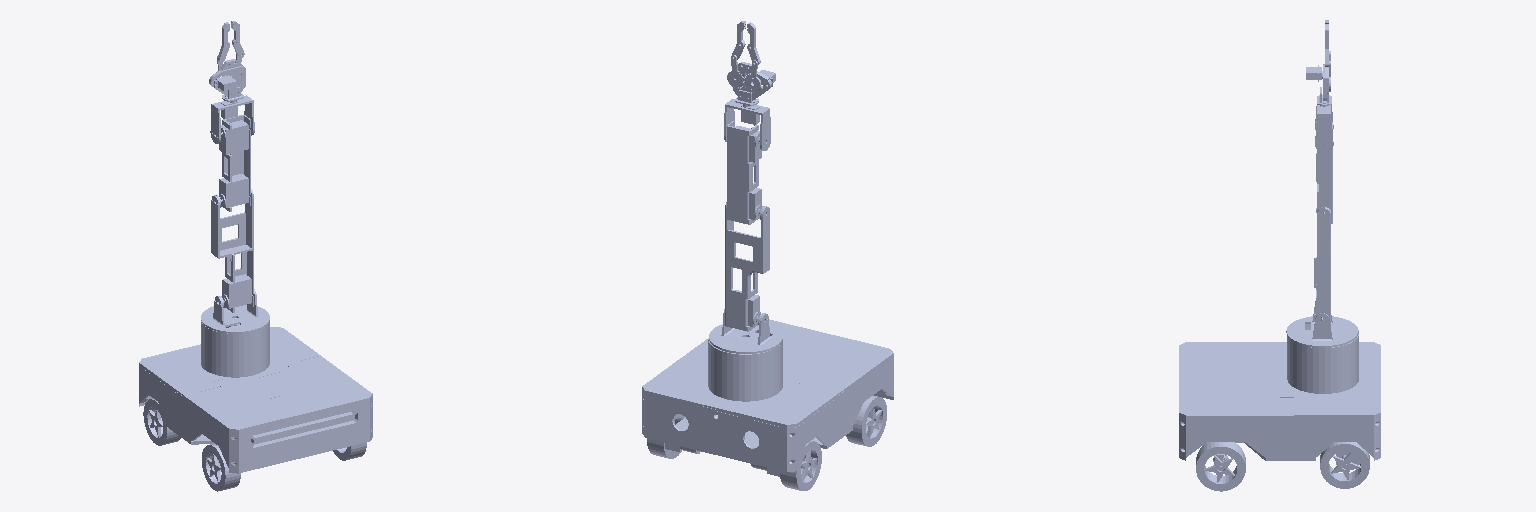
URDF robot description (urdf1):
<?xml version="1.0" encoding="utf-8"?>
<!-- This URDF was automatically created by SolidWorks to URDF Exporter! Originally created by [author] ([email redacted]) 
     Commit Version: 1.6.0-4-g7f85cfe  Build Version: 1.6.7995.38578
     For more information, please see http://wiki.ros.org/sw_urdf_exporter -->
<robot
  name="urdf1">

  <link
    name="base_link">
    <inertial>
      <origin
        xyz="3.03454809391646E-07 0.0654054271281739 0.0736655601177138"
        rpy="0 0 0" />
      <mass
        value="1.2640955591587" />
      <inertia
        ixx="0.00159516082074683"
        ixy="-2.2247742415105E-05"
        ixz="-4.58277469127019E-06"
        iyy="0.00125585506236453"
        iyz="3.85197329946913E-08"
        izz="0.00243334487322761" />
    </inertial>
    <visual>
      <origin
        xyz="0 0 0"
        rpy="0 0 0" />
      <geometry>
        <mesh
          filename="package://urdf1/meshes/base_link.STL" />
      </geometry>
      <material
        name="">
        <color
          rgba="0.792156862745098 0.819607843137255 0.933333333333333 1" />
      </material>
    </visual>
    <collision>
      <origin
        xyz="0 0 0"
        rpy="0 0 0" />
      <geometry>
        <mesh
          filename="package://urdf1/meshes/base_link.STL" />
      </geometry>
    </collision>
  </link>
  <link
    name="rotating_base">
    <inertial>
      <origin
        xyz="3.13504042321611E-05 0.0362400660828673 0.000351260517063468"
        rpy="0 0 0" />
      <mass
        value="0.313285315014974" />
      <inertia
        ixx="0.000373106991661169"
        ixy="6.4722549241619E-08"
        ixz="-2.1848102309938E-07"
        iyy="0.000491995727417461"
        iyz="1.61924105050786E-06"
        izz="0.000347160587347121" />
    </inertial>
    <visual>
      <origin
        xyz="0 0 0"
        rpy="0 0 0" />
      <geometry>
        <mesh
          filename="package://urdf1/meshes/rotating_base.STL" />
      </geometry>
      <material
        name="">
        <color
          rgba="0.792156862745098 0.819607843137255 0.933333333333333 1" />
      </material>
    </visual>
    <collision>
      <origin
        xyz="0 0 0"
        rpy="0 0 0" />
      <geometry>
        <mesh
          filename="package://urdf1/meshes/rotating_base.STL" />
      </geometry>
    </collision>
  </link>
  <joint
    name="rotating_base_joint"
    type="revolute">
    <origin
      xyz="0 0.12 0.11715"
      rpy="1.5708 0 0" />
    <parent
      link="base_link" />
    <child
      link="rotating_base" />
    <axis
      xyz="0 1 0" />
    <limit
      lower="-3.14"
      upper="0"
      effort="1.1772"
      velocity="1.0" />
  </joint>
  <link
    name="arm1_link">
    <inertial>
      <origin
        xyz="0.00118099407101191 0.0453238372463187 -0.00291398993892447"
        rpy="0 0 0" />
      <mass
        value="0.0634132320440007" />
      <inertia
        ixx="8.04976086867397E-05"
        ixy="8.22964226041762E-06"
        ixz="2.11648019425509E-07"
        iyy="2.14499235724829E-05"
        iyz="-1.67938928108324E-06"
        izz="9.7396583366597E-05" />
    </inertial>
    <visual>
      <origin
        xyz="0 0 0"
        rpy="0 0 0" />
      <geometry>
        <mesh
          filename="package://urdf1/meshes/arm1_link.STL" />
      </geometry>
      <material
        name="">
        <color
          rgba="0.792156862745098 0.819607843137255 0.933333333333333 1" />
      </material>
    </visual>
    <collision>
      <origin
        xyz="0 0 0"
        rpy="0 0 0" />
      <geometry>
        <mesh
          filename="package://urdf1/meshes/arm1_link.STL" />
      </geometry>
    </collision>
  </link>
  <joint
    name="arm1_joint"
    type="revolute">
    <origin
      xyz="0 0.1034 0.0011445"
      rpy="0 0 0" />
    <parent
      link="rotating_base" />
    <child
      link="arm1_link" />
    <axis
      xyz="1 0 0" />
    <limit
      lower="-1.57"
      upper="1.57"
      effort="1.1772"
      velocity="1.0" />
  </joint>
  <link
    name="arm2_link">
    <inertial>
      <origin
        xyz="-0.000100941108156283 0.0534249999992844 -0.00194621903547368"
        rpy="0 0 0" />
      <mass
        value="0.0816220886614358" />
      <inertia
        ixx="4.44326095426998E-05"
        ixy="-5.88172426801534E-21"
        ixz="-5.52581167112971E-08"
        iyy="1.46571263936204E-05"
        iyz="-5.93355198753404E-10"
        izz="5.38946605780154E-05" />
    </inertial>
    <visual>
      <origin
        xyz="0 0 0"
        rpy="0 0 0" />
      <geometry>
        <mesh
          filename="package://urdf1/meshes/arm2_link.STL" />
      </geometry>
      <material
        name="">
        <color
          rgba="0.792156862745098 0.819607843137255 0.933333333333333 1" />
      </material>
    </visual>
    <collision>
      <origin
        xyz="0 0 0"
        rpy="0 0 0" />
      <geometry>
        <mesh
          filename="package://urdf1/meshes/arm2_link.STL" />
      </geometry>
    </collision>
  </link>
  <joint
    name="arm2_joint"
    type="revolute">
    <origin
      xyz="0 0.16025 -0.0025"
      rpy="0 0 0" />
    <parent
      link="arm1_link" />
    <child
      link="arm2_link" />
    <axis
      xyz="1 0 0" />
    <limit
      lower="-1.57"
      upper="1.57"
      effort="1.1772"
      velocity="1.0" />
  </joint>

  <!--headbase_link-->
<link
    name="headbase_link">
    <inertial>
      <origin
        xyz="-0.00518808119313557 -0.000190058066357773 -0.0284169952098526"
        rpy="0 0 0" />
      <mass
        value="0.0161864030608397" />
      <inertia
        ixx="4.1897504460347E-06"
        ixy="-2.0649009635548E-16"
        ixz="1.70098370738364E-07"
        iyy="1.06723085395448E-05"
        iyz="-6.56605336357891E-16"
        izz="7.48557675207618E-06" />
    </inertial>
    <visual>
      <origin
        xyz="0 0 0"
        rpy="0 0 0" />
      <geometry>
        <mesh
          filename="package://urdf1/meshes/headbase_link.STL" />
      </geometry>
      <material
        name="">
        <color
          rgba="0.792156862745098 0.819607843137255 0.933333333333333 1" />
      </material>
    </visual>
    <collision>
      <origin
        xyz="0 0 0"
        rpy="0 0 0" />
      <geometry>
        <mesh
          filename="package://urdf1/meshes/headbase_link.STL" />
      </geometry>
    </collision>
  </link>
  <joint
    name="headbase_joint"
    type="revolute">
    <origin
      xyz="0 0.10685 0"
      rpy="1.5708 0 0" />
    <parent
      link="arm2_link" />
    <child
      link="headbase_link" />
    <axis
      xyz="1 0 0" />
    <limit
      lower="-1.57"
      upper="1.57"
      effort="0"
      velocity="0" />
  </joint>
  
 <link
    name="headrotation_link">
    <inertial>
      <origin
        xyz="-0.00595640533666694 0.0029159696565958 -0.0419131759373086"
        rpy="0 0 0" />
      <mass
        value="0.0227875440756132" />
      <inertia
        ixx="2.82350657945554E-06"
        ixy="7.79473977652423E-08"
        ixz="-1.45047065676355E-08"
        iyy="5.423821178642E-06"
        iyz="-4.77260764126104E-08"
        izz="3.4704109006198E-06" />
    </inertial>
    <visual>
      <origin
        xyz="0 0 0"
        rpy="0 0 0" />
      <geometry>
        <mesh
          filename="package://urdf1/meshes/headrotation_link.STL" />
      </geometry>
      <material
        name="">
        <color
          rgba="0.792156862745098 0.819607843137255 0.933333333333333 1" />
      </material>
    </visual>
    <collision>
      <origin
        xyz="0 0 0"
        rpy="0 0 0" />
      <geometry>
        <mesh
          filename="package://urdf1/meshes/headrotation_link.STL" />
      </geometry>
    </collision>
  </link>
  <joint
    name="headrotation_joint"
    type="revolute">
    <origin
      xyz="-0.00309999999999264 -0.000499999999501621 -0.0389860127240922"
      rpy="0 0 0" />
    <parent
      link="headbase_link" />
    <child
      link="headrotation_link" />
    <axis
      xyz="0 0 -1" />
    <limit
      lower="-1.57"
      upper="1.57"
      effort="0"
      velocity="0" />
  </joint>
  
  <link
    name="left_gear">
    <inertial>
      <origin
        xyz="0.00150000001820544 0.00102096397841817 -0.00560416813543596"
        rpy="0 0 0" />
      <mass
        value="0.00200467931323718" />
      <inertia
        ixx="3.47064278837829E-07"
        ixy="-3.1260903172135E-16"
        ixz="-4.0863647823248E-15"
        iyy="2.81784350719127E-07"
        iyz="-2.1288490031294E-08"
        izz="6.82869470885583E-08" />
    </inertial>
    <visual>
      <origin
        xyz="0 0 0"
        rpy="0 0 0" />
      <geometry>
        <mesh
          filename="package://urdf1/meshes/left_gear.STL" />
      </geometry>
      <material
        name="">
        <color
          rgba="0.792156862745098 0.819607843137255 0.933333333333333 1" />
      </material>
    </visual>
    <collision>
      <origin
        xyz="0 0 0"
        rpy="0 0 0" />
      <geometry>
        <mesh
          filename="package://urdf1/meshes/left_gear.STL" />
      </geometry>
    </collision>
  </link>
  <joint
    name="left_gear_joint"
    type="revolute">
    <origin
      xyz="0.0131103567843749 -0.00650000000040618 -0.0477486647006485"
      rpy="-0.206898425467311 0 -1.5707963267949" />
    <parent
      link="headrotation_link" />
    <child
      link="left_gear" />
    <axis
      xyz="1 0 0" />
    <limit
      lower="0"
      upper="1.57"
      effort="0.1962"
      velocity="1.0" />
  </joint>
  <link
    name="left_finger">
    <inertial>
      <origin
        xyz="0.0570409792985406 0.0345819380964499 0.00300000002740594"
        rpy="0 0 0" />
      <mass
        value="0.00309838482900691" />
      <inertia
        ixx="8.43939875646886E-08"
        ixy="-2.11270108414149E-07"
        ixz="-2.14764251825149E-17"
        iyy="8.83512144063118E-07"
        iyz="-5.2707378311061E-18"
        izz="9.63258554384297E-07" />
    </inertial>
    <visual>
      <origin
        xyz="0 0 0"
        rpy="0 0 0" />
      <geometry>
        <mesh
          filename="package://urdf1/meshes/left_finger.STL" />
      </geometry>
      <material
        name="">
        <color
          rgba="0.792156862745098 0.819607843137255 0.933333333333333 1" />
      </material>
    </visual>
    <collision>
      <origin
        xyz="0 0 0"
        rpy="0 0 0" />
      <geometry>
        <mesh
          filename="package://urdf1/meshes/left_finger.STL" />
      </geometry>
    </collision>
  </link>
  <joint
    name="left_finger_joint"
    type="fixed">
    <origin
      xyz="-0.0059999999989038 -0.0152305074216201 0.00839893902138411"
      rpy="-1.5707963267949 1.37792093916735 -1.5707963267949" />
    <parent
      link="left_gear" />
    <child
      link="left_finger" />
    <axis
      xyz="0 0 0" />
  </joint>


  
  <link
    name="right_gear">
    <inertial>
      <origin
        xyz="-0.00150000001897563 -0.000606553145919286 -0.00586390681966698"
        rpy="0 0 0" />
      <mass
        value="0.00193211092226066" />
      <inertia
        ixx="3.44960480857915E-07"
        ixy="4.6399247940405E-19"
        ixz="-6.54006833380064E-18"
        iyy="2.81602159858084E-07"
        iyz="6.89138378216484E-09"
        izz="6.62564873832221E-08" />
    </inertial>
    <visual>
      <origin
        xyz="0 0 0"
        rpy="0 0 0" />
      <geometry>
        <mesh
          filename="package://urdf1/meshes/right_gear.STL" />
      </geometry>
      <material
        name="">
        <color
          rgba="0.792156862745098 0.819607843137255 0.933333333333333 1" />
      </material>
    </visual>
    <collision>
      <origin
        xyz="0 0 0"
        rpy="0 0 0" />
      <geometry>
        <mesh
          filename="package://urdf1/meshes/right_gear.STL" />
      </geometry>
    </collision>
  </link>
  <joint
    name="right_gear_joint"
    type="revolute">
    <origin
      xyz="-0.0138862515127949 -0.00650000000084 -0.0473207155792722"
      rpy="0.0984370296846296 0 1.5707963267949" />
    <parent
      link="headrotation_link" />
    <child
      link="right_gear" />
    <axis
      xyz="1 0 0" />
    <limit
      lower="0"
      upper="1.57"
      effort="0.1962"
      velocity="1.0" />
    
  </joint>
  <link
    name="right_finger">
    <inertial>
      <origin
        xyz="0.057040979299243 0.0345819380947497 0.00299999997143169"
        rpy="0 0 0" />
      <mass
        value="0.00309838482900691" />
      <inertia
        ixx="8.43939875604731E-08"
        ixy="-2.11270108406176E-07"
        ixz="1.90332865604142E-17"
        iyy="8.83512144067333E-07"
        iyz="4.95229422279801E-18"
        izz="9.63258554384295E-07" />
    </inertial>
    <visual>
      <origin
        xyz="0 0 0"
        rpy="0 0 0" />
      <geometry>
        <mesh
          filename="package://urdf1/meshes/right_finger.STL" />
      </geometry>
      <material
        name="">
        <color
          rgba="0.792156862745098 0.819607843137255 0.933333333333333 1" />
      </material>
    </visual>
    <collision>
      <origin
        xyz="0 0 0"
        rpy="0 0 0" />
      <geometry>
        <mesh
          filename="package://urdf1/meshes/right_finger.STL" />
      </geometry>
    </collision>
  </link>
  <joint
    name="right_finger"
    type="fixed">
    <origin
      xyz="0 -0.0126821477315464 0.0122006653845607"
      rpy="-1.5707963267949 1.10430536978375 -1.5707963267949" />
    <parent
      link="right_gear" />
    <child
      link="right_finger" />
    <axis
      xyz="0 0 0" />
  </joint>

  <link name="camera_link1">
  </link>
  
  <joint name="camera_joint1" type="fixed">
    <parent link="headbase_link"/>
    <child link="camera_link1"/>
    <origin xyz="0 -0.02 -0.05" rpy="0 3.14 0"/>
  </joint>

  <link name="camera_link2">
  </link>
  
  <joint name="camera_joint2" type="fixed">
    <parent link="base_link"/>
    <child link="camera_link2"/>
    <origin xyz="-0.205 0.12 0.31" rpy="0 3.14 -1.57"/>
  </joint>


  <link name="camera_link3">
  </link>
  
  <joint name="camera_joint3" type="fixed">
    <parent link="base_link"/>
    <child link="camera_link3"/>
    <origin xyz="0 0.205 0.31" rpy="0 3.14 -1.57"/>
  </joint>
  
 
  



  <!-- <link
    name="headbase_link">
    <inertial>
      <origin
        xyz="-0.00824238058716534 0.00174897704192237 -0.0428605252385843"
        rpy="0 0 0" />
      <mass
        value="0.0318652014696458" />
      <inertia
        ixx="3.99144459871151E-06"
        ixy="1.11428911534965E-07"
        ixz="-1.02077883564274E-09"
        iyy="1.09175059983633E-05"
        iyz="-4.64846170651033E-08"
        izz="8.64979687083806E-06" />
    </inertial>
    <visual>
      <origin
        xyz="0 0 0"
        rpy="0 0 0" />
      <geometry>
        <mesh
          filename="package://urdf1/meshes/headbase_link.STL" />
      </geometry>
      <material
        name="">
        <color
          rgba="0.792156862745098 0.819607843137255 0.933333333333333 1" />
      </material>
    </visual>
    <collision>
      <origin
        xyz="0 0 0"
        rpy="0 0 0" />
      <geometry>
        <mesh
          filename="package://urdf1/meshes/headbase_link.STL" />
      </geometry>
    </collision>
  </link>
  <joint
    name="headbase_joint"
    type="revolute">
      <inertial>
      <origin
        xyz="0 0 0"
        rpy="0 0 0" />
      <mass
        value="0.0318652014696458" />
      <inertia
        ixx="3.99144459871151E-06"
        ixy="1.11428911534965E-07"
        ixz="-1.02077883564274E-09"
        iyy="1.09175059983633E-05"
        iyz="-4.64846170651033E-08"
        izz="8.64979687083806E-06" />
    </inertial>
    <origin
      xyz="0 0.10685 0"
      rpy="1.5708 0 0" />
    <parent
      link="arm2_link" />
    <child
      link="headbase_link" />
    <axis
      xyz="1 0 0" />
    <limit
      lower="-1.57"
      upper="1.57"
      effort="1.1772"
      velocity="1.0" />
  </joint> -->
 

<!-- 
    <link name="headrotation_link">
    <visual>
      <origin xyz="0 0 0"/>
      <geometry>
        <box size="0.045 0.005 0.03"/>
      </geometry>
      <material
        name="">
        <color
          rgba="0.792156862745098 0.819607843137255 0.933333333333333 1" />
      </material>
    </visual>
    <collision>
      <origin xyz="0 0 0"/>
      <geometry>
        <box size="0.045 0.005 0.03"/>
      </geometry>
    </collision>
    </link>
        <joint name="headrotation_joint" type="revolute">
      <parent link="headbase_link"/>
      <child link="headrotation_link"/>
      <origin xyz="0 0 -0.097" rpy="0 0 0"/>
      <axis
      xyz="0 0 1"/>
    <limit
      lower="-1.57"
      upper="1.57"
      effort="1.1772"
      velocity="1.0"/>
    </joint> -->
  <!-- <link
    name="headrotation_link">
    <inertial>
      <origin
        xyz="0.0098192862296379 0.00291596966201615 -0.041179785084589"
        rpy="0 0 0" />
      <mass
        value="0.0227875440756132" />
      <inertia
        ixx="2.92029299118947E-06"
        ixy="9.0015293797766E-08"
        ixz="-2.31201913908721E-07"
        iyy="5.42382117864614E-06"
        iyz="-1.58373629119831E-08"
        izz="3.37362448888173E-06" />
    </inertial>
    <visual>
      <origin
        xyz="0 0 0"
        rpy="0 0 0" />
      <geometry>
        <mesh
          filename="package://urdf1/meshes/headrotation_link.STL" />
      </geometry>
      <material
        name="">
        <color
          rgba="0.792156862745098 0.819607843137255 0.933333333333333 1" />
      </material>
    </visual>
    <collision>
      <origin
        xyz="0 0 0"
        rpy="0 0 0" />
      <geometry>
        <mesh
          filename="package://urdf1/meshes/headrotation_link.STL" />
      </geometry>
    </collision>
  </link>
  <joint
    name="headrotation_joint"
    type="revolute">
    <origin
      xyz="-0.0031 -0.0005 -0.038986"
      rpy="0 0.37525 0" />
    <parent
      link="headbase_link" />
    <child
      link="headrotation_link" />
    <axis
      xyz="0.3665 0 -0.93042" />
    <limit
      lower="-1.57"
      upper="1.57"
      effort="1.1772"
      velocity="1.0" />
  </joint>


  <link
    name="left_gear">
    <inertial>
      <origin
        xyz="0.00150000008515044 0.0013185768290114 0.00554169855285858"
        rpy="0 0 0" />
      <mass
        value="0.00200467931323718" />
      <inertia
        ixx="3.47064278837829E-07"
        ixy="-3.1260903172135E-16"
        ixz="-4.0863647823248E-15"
        iyy="2.81784350719127E-07"
        iyz="-2.1288490031294E-08"
        izz="6.82869470885583E-08" />
    </inertial>
    <visual>
      <origin
        xyz="0 0 0"
        rpy="0 0 0" />
      <geometry>
        <mesh
          filename="package://urdf1/meshes/left_gear.STL" />
      </geometry>
      <material
        name="">
        <color
          rgba="0.792156862745098 0.819607843137255 0.933333333333333 1" />
      </material>
    </visual>
    <collision>
      <origin
        xyz="0 0 0"
        rpy="0 0 0" />
      <geometry>
        <mesh
          filename="package://urdf1/meshes/left_gear.STL" />
      </geometry>
    </collision>
  </link>
  <joint
    name="left_gear_joint"
    type="revolute">
    <origin
      xyz="0.02 -0.005 -0.006"
      rpy="-2.9909 0 -1.5708" />
    <parent
      link="headrotation_link" />
    <child
      link="left_gear" />
    <axis
      xyz="1 0 0" />
    <limit
      lower="0"
      upper="1.57"
      effort="0.1962"
      velocity="1.0" />
  </joint>
  <link
    name="left_finger">
    <inertial>
      <origin
        xyz="0.0570409793002317 0.0345819380944686 0.00300000000533265"
        rpy="0 0 0" />
      <mass
        value="0.00309838482900691" />
      <inertia
        ixx="8.43939875646886E-08"
        ixy="-2.11270108414149E-07"
        ixz="-2.14764251825149E-17"
        iyy="8.83512144063118E-07"
        iyz="-5.2707378311061E-18"
        izz="9.63258554384297E-07" />
    </inertial>
    <visual>
      <origin
        xyz="0 0 0"
        rpy="0 0 0" />
      <geometry>
        <mesh
          filename="package://urdf1/meshes/left_finger.STL" />
      </geometry>
      <material
        name="">
        <color
          rgba="0.792156862745098 0.819607843137255 0.933333333333333 1" />
      </material>
    </visual>
    <collision>
      <origin
        xyz="0 0 0"
        rpy="0 0 0" />
      <geometry>
        <mesh
          filename="package://urdf1/meshes/left_finger.STL" />
      </geometry>
    </collision>
  </link>
  <joint
    name="left_finger_joint"
    type="fixed">
    <origin
      xyz="-0.006 0.013767 -0.013227"
      rpy="1.5708 -1.0364 1.5708" />
    <parent
      link="left_gear" />
    <child
      link="left_finger" />
    <axis
      xyz="0 0 0" />
  </joint>


  
  <link
    name="right_gear">
    <inertial>
      <origin
        xyz="-0.00150000000309444 -0.000606553145360927 -0.00586390682124105"
        rpy="0 0 0" />
      <mass
        value="0.00193211092226066" />
      <inertia
        ixx="3.44960480857915E-07"
        ixy="4.6399247940405E-19"
        ixz="-6.54006833380064E-18"
        iyy="2.81602159858084E-07"
        iyz="6.89138378216484E-09"
        izz="6.62564873832221E-08" />
    </inertial>
    <visual>
      <origin
        xyz="0 0 0"
        rpy="0 0 0" />
      <geometry>
        <mesh
          filename="package://urdf1/meshes/right_gear.STL" />
      </geometry>
      <material
        name="">
        <color
          rgba="0.792156862745098 0.819607843137255 0.933333333333333 1" />
      </material>
    </visual>
    <collision>
      <origin
        xyz="0 0 0"
        rpy="0 0 0" />
      <geometry>
        <mesh
          filename="package://urdf1/meshes/right_gear.STL" />
      </geometry>
    </collision>
  </link>
  <joint
    name="right_gear_joint"
    type="revolute">
    <origin
      xyz="-0.01 -0.005 -0.006"
      rpy="0.024495 0 1.5708" />
    <parent
      link="headrotation_link" />
    <child
      link="right_gear" />
    <axis
      xyz="1 0 0" />
    <limit
      lower="0"
      upper="1.57"
      effort="0.1962"
      velocity="1.0" />
    
  </joint>
  <link
    name="right_finger">
    <inertial>
      <origin
        xyz="0.0570409792987843 0.0345819380974663 0.00299999999624387"
        rpy="0 0 0" />
      <mass
        value="0.00309838482900691" />
      <inertia
        ixx="8.43939875604731E-08"
        ixy="-2.11270108406176E-07"
        ixz="1.90332865604142E-17"
        iyy="8.83512144067333E-07"
        iyz="4.95229422279801E-18"
        izz="9.63258554384295E-07" />
    </inertial>
    <visual>
      <origin
        xyz="0 0 0"
        rpy="0 0 0" />
      <geometry>
        <mesh
          filename="package://urdf1/meshes/right_finger.STL" />
      </geometry>
      <material
        name="">
        <color
          rgba="0.792156862745098 0.819607843137255 0.933333333333333 1" />
      </material>
    </visual>
    <collision>
      <origin
        xyz="0 0 0"
        rpy="0 0 0" />
      <geometry>
        <mesh
          filename="package://urdf1/meshes/right_finger.STL" />
      </geometry>
    </collision>
  </link>
  <joint
    name="right_finger"
    type="fixed">
    <origin
      xyz="0 -0.015175 0.011389"
      rpy="-1.5708 1.1625 -1.5708" />
    <parent
      link="right_gear" />
    <child
      link="right_finger" />
    <axis
      xyz="0 0 0" />
  </joint>

  <link name="camera_link1">
  </link>
  
  <joint name="camera_joint1" type="fixed">
    <parent link="headbase_link"/>
    <child link="camera_link1"/>
    <origin xyz="0 -0.02 -0.05" rpy="0 3.14 0"/>
  </joint>

  <link name="camera_link2">
  </link>
  
  <joint name="camera_joint2" type="fixed">
    <parent link="base_link"/>
    <child link="camera_link2"/>
    <origin xyz="-0.205 0 0.31" rpy="0 3.14 -1.57"/>
  </joint>
  
 -->


</robot>

--- Facts derived from the render (not from the file) ---
The picture shows the robot from 3 angles, left to right: view 1: azimuth 30°, elevation 25°; view 2: azimuth 150°, elevation 25°; view 3: azimuth 270°, elevation 25°; orthographic projection.
Model urdf1 with 13 links and 12 joints (7 revolute, 5 fixed), rooted at base_link, posed all joints at 0.
Links seen in each view (by area): view 1: base_link, rotating_base, arm1_link, arm2_link, headrotation_link, headbase_link; view 2: base_link, rotating_base, arm1_link, arm2_link, headbase_link, headrotation_link; view 3: base_link, rotating_base, arm1_link, arm2_link, headbase_link, headrotation_link.
Link boxes in pixels (<box>): base_link: <box>139,327,372,491</box>; rotating_base: <box>201,289,269,377</box>; arm1_link: <box>211,189,253,312</box>; arm2_link: <box>216,115,250,211</box>; headrotation_link: <box>209,59,245,101</box>; headbase_link: <box>210,95,254,143</box>; base_link: <box>642,319,893,490</box>; rotating_base: <box>708,309,782,401</box>; arm1_link: <box>725,202,769,331</box>; arm2_link: <box>727,121,764,224</box>; headbase_link: <box>724,99,770,150</box>; headrotation_link: <box>732,62,775,105</box>; base_link: <box>1179,342,1380,491</box>; rotating_base: <box>1286,301,1358,393</box>; arm1_link: <box>1314,207,1330,324</box>; arm2_link: <box>1316,122,1332,223</box>; headbase_link: <box>1315,105,1333,152</box>; headrotation_link: <box>1306,64,1331,105</box>.
Bounding box of the posed robot: 0.24 × 0.28 × 0.6598 m (x, y, z).
10 mesh visuals loaded from 10 distinct referenced files (10 binary STL).